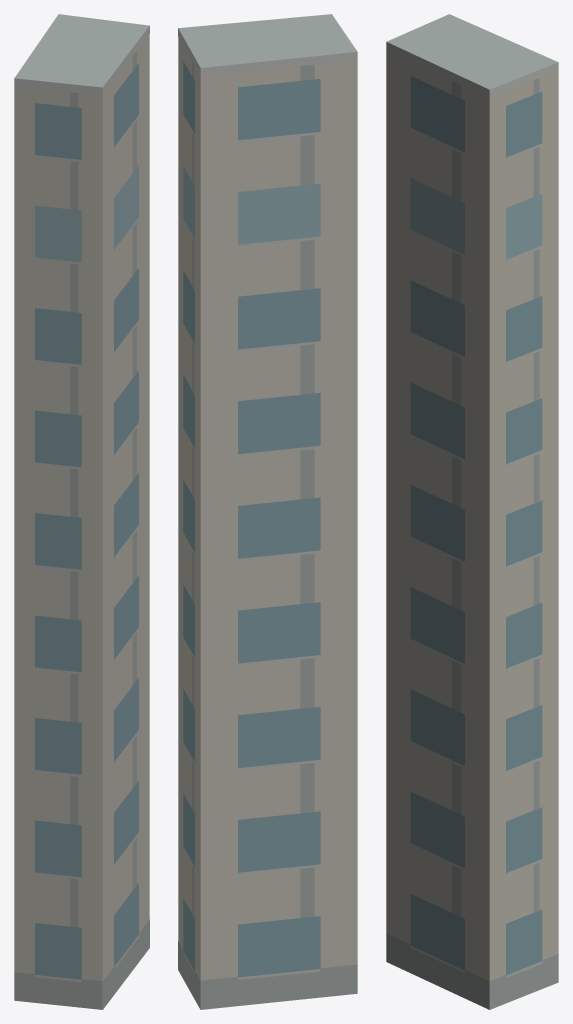
The model's file is survey-upis-33002313.glb.
3 views of the same model, side by side, from view 1: azimuth 30°, elevation 25°; view 2: azimuth 150°, elevation 25°; view 3: azimuth 270°, elevation 25° (orthographic). The views are drawn at different scales.
Visible parts, largest first — view 1: survey-upis-33002313.tmp; view 2: survey-upis-33002313.tmp; view 3: survey-upis-33002313.tmp.
Boxes of the visible parts, <box> form: survey-upis-33002313.tmp: <box>14,14,149,1009</box>; survey-upis-33002313.tmp: <box>178,14,357,1009</box>; survey-upis-33002313.tmp: <box>386,14,558,1009</box>.
Bounding box in the file's own units: 4.85 × 27.45 × 4.66.
